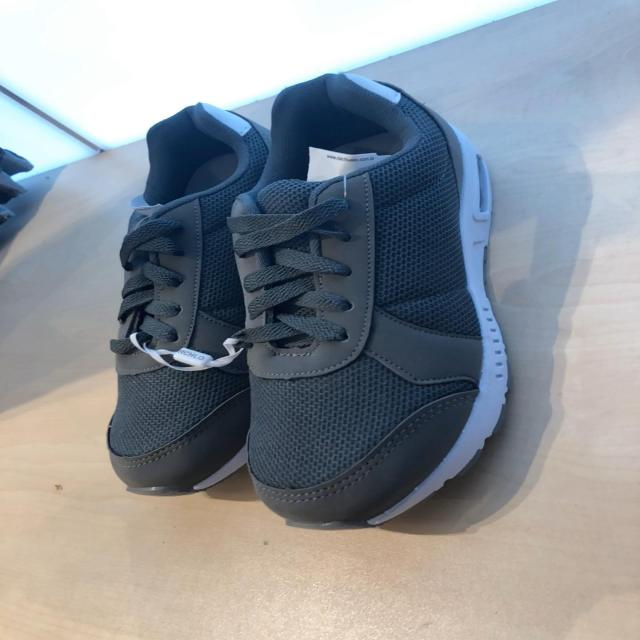shoe: (235, 76, 500, 518), (100, 101, 270, 486)
